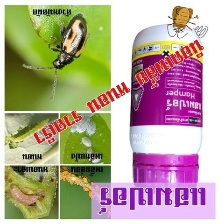insecticide: (125, 20, 209, 196)
